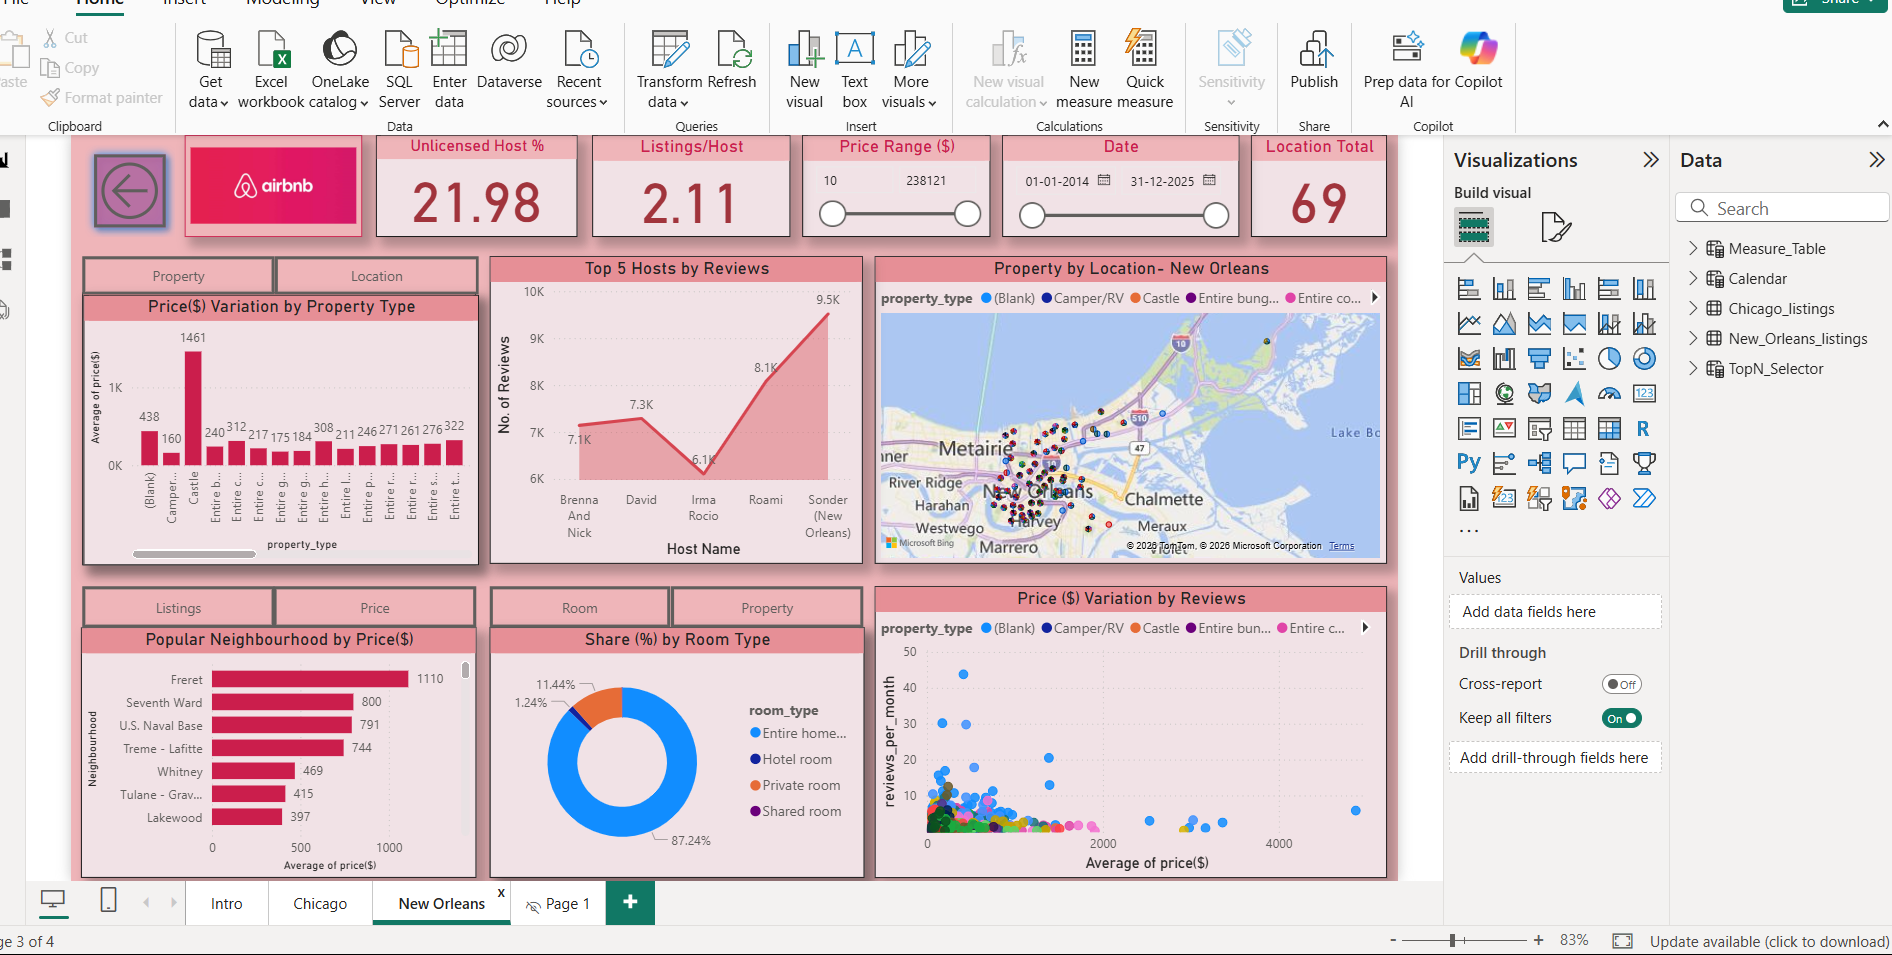

What the dashboard file says about the page in this screenshot:
{"tool":"powerbi","page":{"name":"New Orleans","canvas":[1280,720],"ordinal":2},"visuals":[{"type":"barChart","title":"Popular Neighbourhood by Price($)","fields":{"Category":["New_Orleans_listings.neighbourhood"],"Y":["Avg(New_Orleans_listings.price)"]},"box":[10,475.7,381.4,241.4],"z":0},{"type":"actionButton","box":[11.4,435.7,185.7,40],"z":2000},{"type":"actionButton","box":[195.7,435.7,195.7,40],"z":3000},{"type":"donutChart","title":"Share (%) by Property Type","fields":{"Y":["Measure_Table.NO PropertyType Share (%)"],"Category":["New_Orleans_listings.property_type"]},"box":[404.3,475.7,361.4,241.4],"z":4000},{"type":"donutChart","title":"Share (%) by Room Type","fields":{"Category":["New_Orleans_listings.room_type"],"Y":["Measure_Table.NO RoomType Share (%)"]},"box":[404.3,475.7,361.4,241.4],"z":5000},{"type":"actionButton","box":[404.3,435.7,174.3,40],"z":6000},{"type":"actionButton","box":[578.6,435.7,185.7,40],"z":7000},{"type":"slicer","title":"Price Range ($)","fields":{"Values":["New_Orleans_listings.price"]},"box":[705.7,0,181.4,98.6],"z":8000},{"type":"card","title":"Location Total","fields":{"Values":["Count(New_Orleans_listings.neighbourhood)"]},"box":[1138.6,0,131.4,98.6],"z":9000},{"type":"columnChart","title":"Price ($) Variation by Location (Intra city)","fields":{"Category":["New_Orleans_listings.neighbourhood"],"Y":["Avg(New_Orleans_listings.price)"]},"box":[11.4,151.4,380,262.9],"z":10000},{"type":"columnChart","title":"Price($) Variation by Property Type","fields":{"Category":["New_Orleans_listings.property_type"],"Y":["Avg(New_Orleans_listings.price)"]},"box":[12,154.2,381.5,260.5],"z":11000},{"type":"scatterChart","title":"Price ($) Variation by Reviews","fields":{"X":["Avg(New_Orleans_listings.price)"],"Y":["New_Orleans_listings.reviews_per_month"],"Series":["New_Orleans_listings.property_type"]},"box":[775.7,435.7,494.3,281.4],"z":12000},{"type":"map","title":"Property by Location- New Orleans","fields":{"Y":["Avg(New_Orleans_listings.latitude)"],"X":["Avg(New_Orleans_listings.longitude)"],"Category":["New_Orleans_listings.neighbourhood"],"Series":["New_Orleans_listings.property_type"]},"box":[775.7,117.1,494.3,297.1],"z":13000},{"type":"actionButton","box":[11.4,117.1,185.7,37.1],"z":14000},{"type":"actionButton","box":[197.1,117.1,197.1,37.1],"z":15000},{"type":"image","box":[110,0,171.4,98.6],"z":16000},{"type":"card","title":"Unlicensed Host %","fields":{"Values":["Measure_Table.UnlicensedNO Host %"]},"box":[294.3,0,194.3,98.6],"z":17000},{"type":"card","title":"Listings/Host","fields":{"Values":["Measure_Table.NOListings/host"]},"box":[502.9,0,191.4,98.6],"z":18000},{"type":"slicer","title":"Date","fields":{"Values":["Calendar.Date"]},"box":[898.6,0,228.6,98.6],"z":19000},{"type":"actionButton","box":[12.9,10,87.1,88.6],"z":20000},{"type":"areaChart","title":"Top 5 Hosts by Reviews","fields":{"Category":["New_Orleans_listings.host_name"],"Y":["TopN_Selector.Dynamic Top N Hosts by Reviews"]},"box":[404.3,117.1,360,297.1],"z":21000}]}

Visuals, with their boxes on the page's 1280x720 design canvas (x1, y1, x2, y2). These are canvas units, not pixel positions in the 1892x955 screenshot, which may show the page scaled, cropped or inside an application window:
"Popular Neighbourhood by Price($)" barChart: bbox=(10, 476, 391, 717)
actionButton: bbox=(11, 436, 197, 476)
actionButton: bbox=(196, 436, 391, 476)
"Share (%) by Property Type" donutChart: bbox=(404, 476, 766, 717)
"Share (%) by Room Type" donutChart: bbox=(404, 476, 766, 717)
actionButton: bbox=(404, 436, 579, 476)
actionButton: bbox=(579, 436, 764, 476)
"Price Range ($)" slicer: bbox=(706, 0, 887, 99)
"Location Total" card: bbox=(1139, 0, 1270, 99)
"Price ($) Variation by Location (Intra city)" columnChart: bbox=(11, 151, 391, 414)
"Price($) Variation by Property Type" columnChart: bbox=(12, 154, 394, 415)
"Price ($) Variation by Reviews" scatterChart: bbox=(776, 436, 1270, 717)
"Property by Location- New Orleans" map: bbox=(776, 117, 1270, 414)
actionButton: bbox=(11, 117, 197, 154)
actionButton: bbox=(197, 117, 394, 154)
image: bbox=(110, 0, 281, 99)
"Unlicensed Host %" card: bbox=(294, 0, 489, 99)
"Listings/Host" card: bbox=(503, 0, 694, 99)
"Date" slicer: bbox=(899, 0, 1127, 99)
actionButton: bbox=(13, 10, 100, 99)
"Top 5 Hosts by Reviews" areaChart: bbox=(404, 117, 764, 414)
